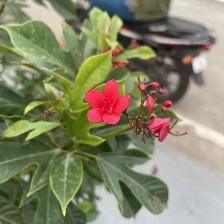jatropha: (86, 80, 135, 132)
